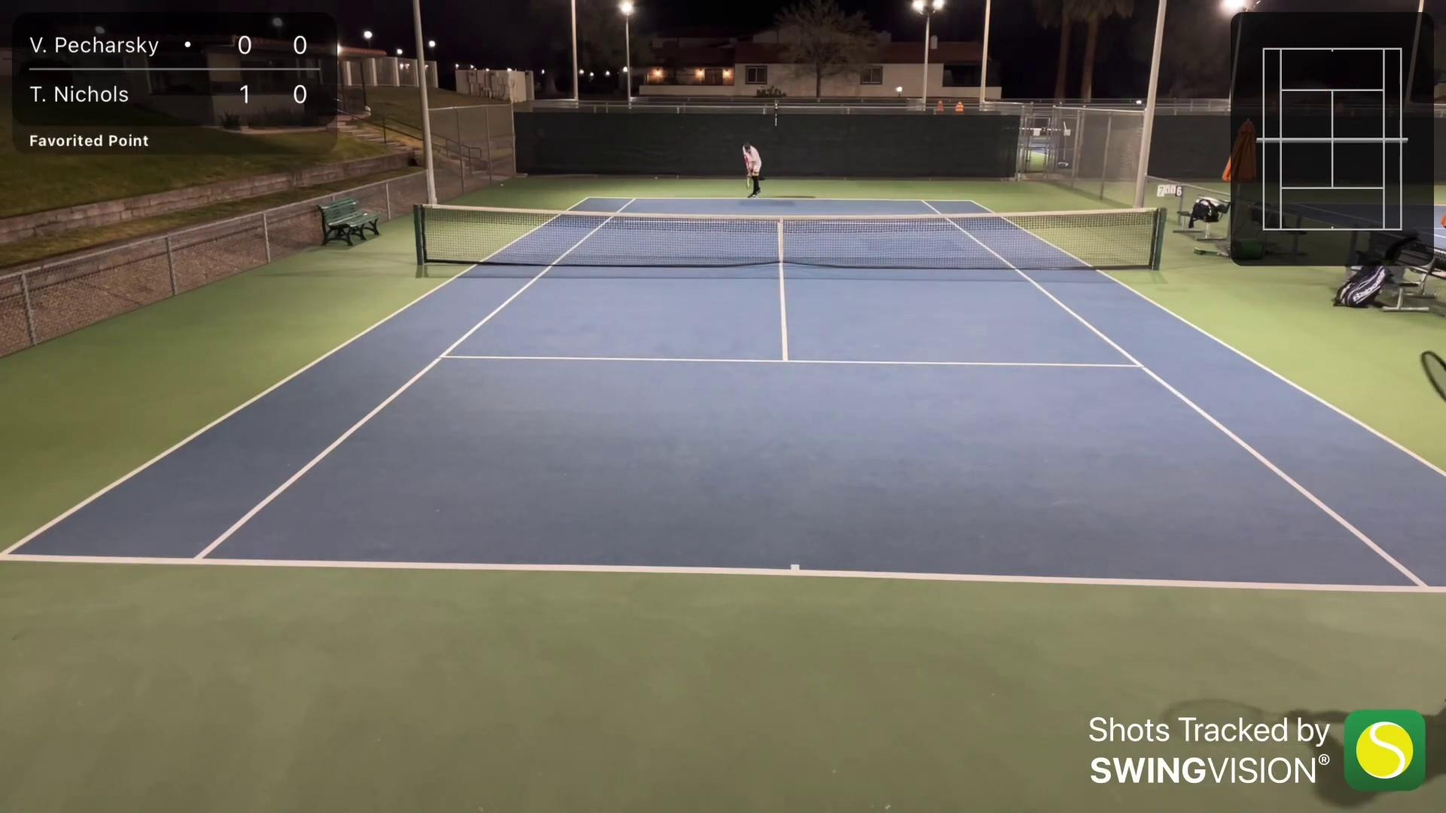ball: (745, 180, 752, 186), (500, 183, 503, 188)
